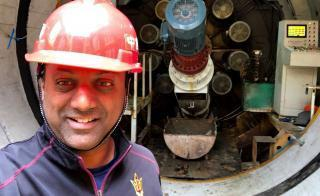Hardhat: (25, 0, 143, 74)
